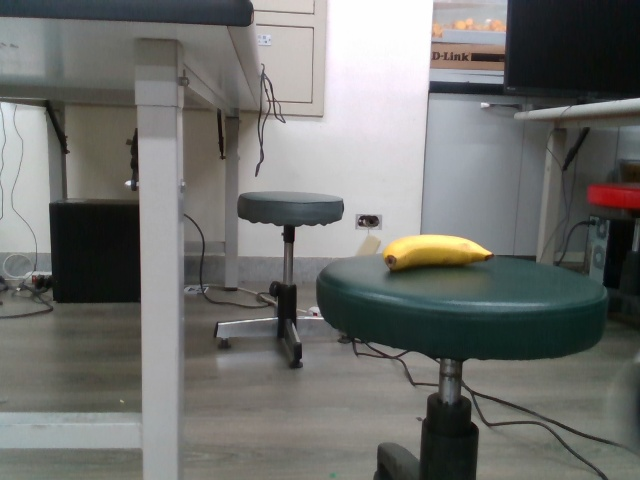banana: (380, 231, 494, 272)
